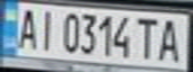0: (57, 9, 81, 55)
1: (93, 11, 115, 56)
3: (78, 10, 96, 56)
4: (112, 12, 136, 59)
A: (154, 16, 187, 63), (12, 4, 42, 51)
I: (33, 7, 57, 52)
T: (133, 15, 160, 61)
